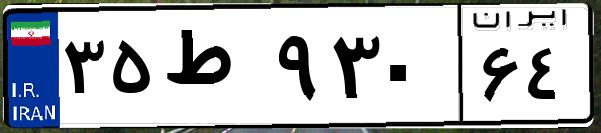0: (385, 28, 445, 110)
3: (330, 28, 385, 110), (57, 26, 110, 100)
4: (525, 38, 570, 115)
5: (110, 28, 158, 98)
6: (475, 38, 525, 113)
9: (270, 28, 330, 110)
ط: (158, 20, 270, 120)
